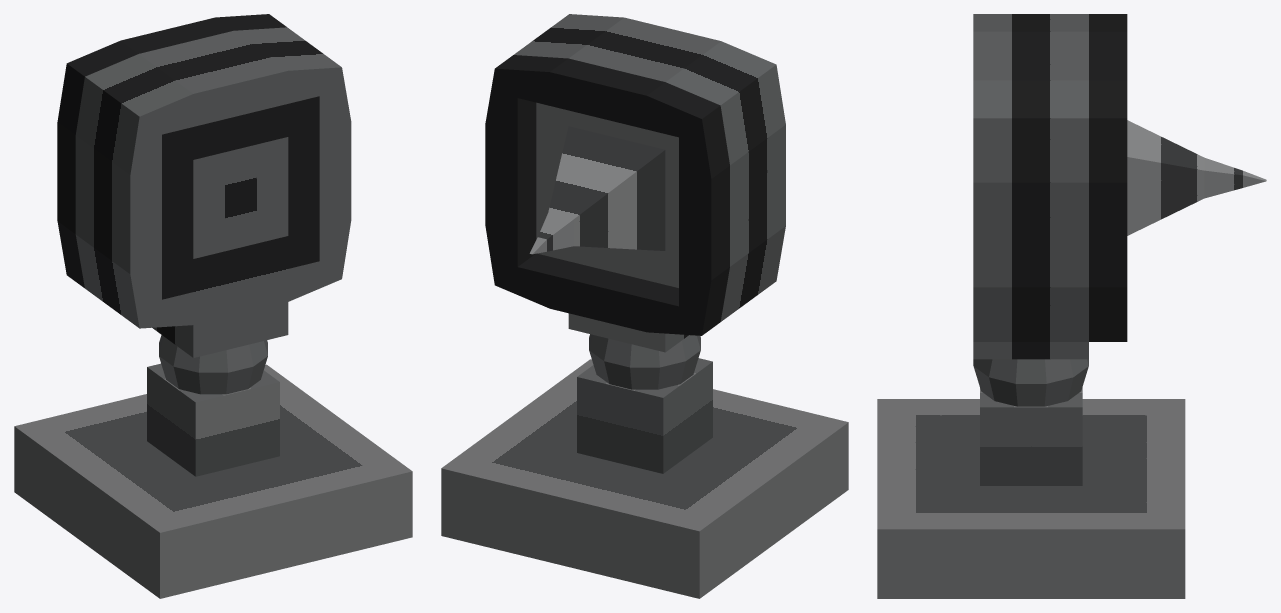
File: Ray Turret.fbx
3 renders of one model, left to right at view 1: azimuth 30°, elevation 25°; view 2: azimuth 150°, elevation 25°; view 3: azimuth 270°, elevation 25°, orthographic. The views are drawn at different scales.
Visible parts, largest first — view 1: Turret, Floor Base, Ball; view 2: Turret, Floor Base, Ball; view 3: Floor Base, Turret, Ball.
Part boxes in pixels (<box>): Turret: <box>57,14,351,357</box>; Floor Base: <box>14,363,412,598</box>; Ball: <box>159,335,267,394</box>; Turret: <box>485,14,785,352</box>; Floor Base: <box>441,358,848,598</box>; Ball: <box>589,334,700,389</box>; Floor Base: <box>877,387,1185,598</box>; Turret: <box>973,14,1266,359</box>; Ball: <box>973,359,1088,406</box>.
Bounding box in the file's own units: 50 × 85.62 × 63.25.
1 material, 1 textured.
